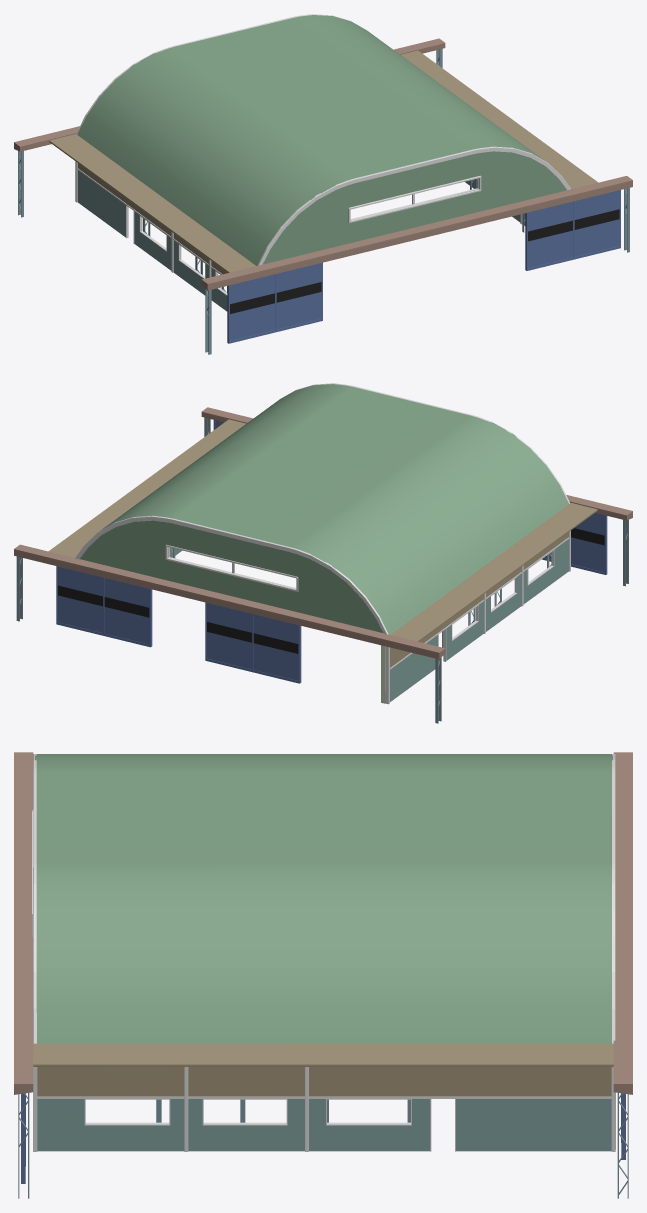
The model's file is Warehouse_high.fbx.
The picture shows the model from 3 angles, top to bottom: view 1: azimuth 30°, elevation 25°; view 2: azimuth 150°, elevation 25°; view 3: azimuth 270°, elevation 25°; orthographic projection. The views are drawn at different scales.
Visible parts, largest first — view 1: Warehouse_high; view 2: Warehouse_high; view 3: Warehouse_high.
Part boxes in pixels (x1,y1,x2,y2): Warehouse_high: [14, 14, 632, 354]; Warehouse_high: [14, 383, 632, 723]; Warehouse_high: [14, 752, 632, 1198].
Size of the model in its own units: 2699 by 821 by 2129.
